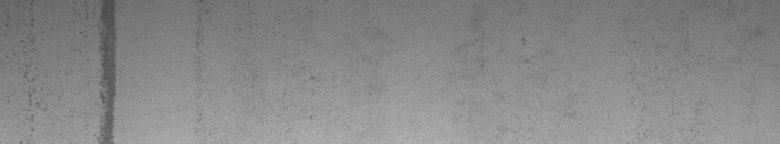hd: (18, 4, 120, 136)
